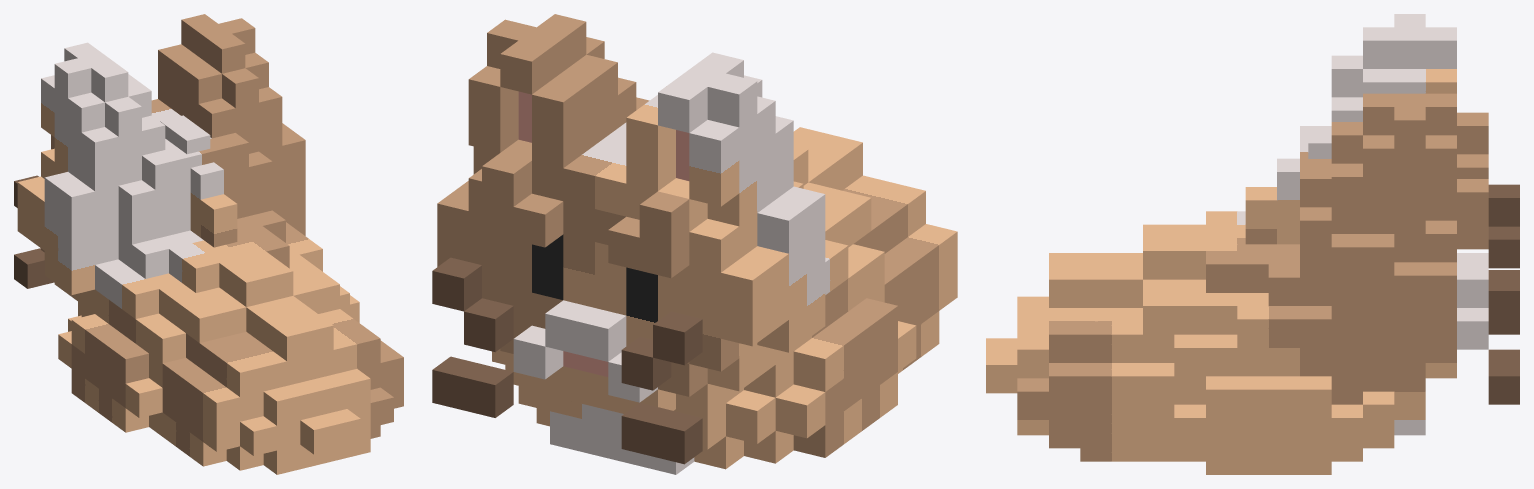
The model's file is ginger_legend.fbx.
The picture shows the model from 3 angles, left to right: view 1: azimuth 30°, elevation 25°; view 2: azimuth 150°, elevation 25°; view 3: azimuth 270°, elevation 25°; orthographic projection. The views are drawn at different scales.
Parts seen in each view (by area): view 1: ginger_legend-1.001, ginger_legend-0.001; view 2: ginger_legend-1.001; view 3: ginger_legend-1.001, ginger_legend-0.001.
Boxes of the visible parts, x1,y1,x2,y2 form: ginger_legend-1.001: (14, 14, 403, 474); ginger_legend-0.001: (160, 115, 237, 247); ginger_legend-1.001: (432, 14, 957, 474); ginger_legend-1.001: (986, 14, 1519, 474); ginger_legend-0.001: (1245, 130, 1331, 244).
Bounding box in the file's own units: 100 × 125 × 170.
Materials: 1 (1 with a texture image).
